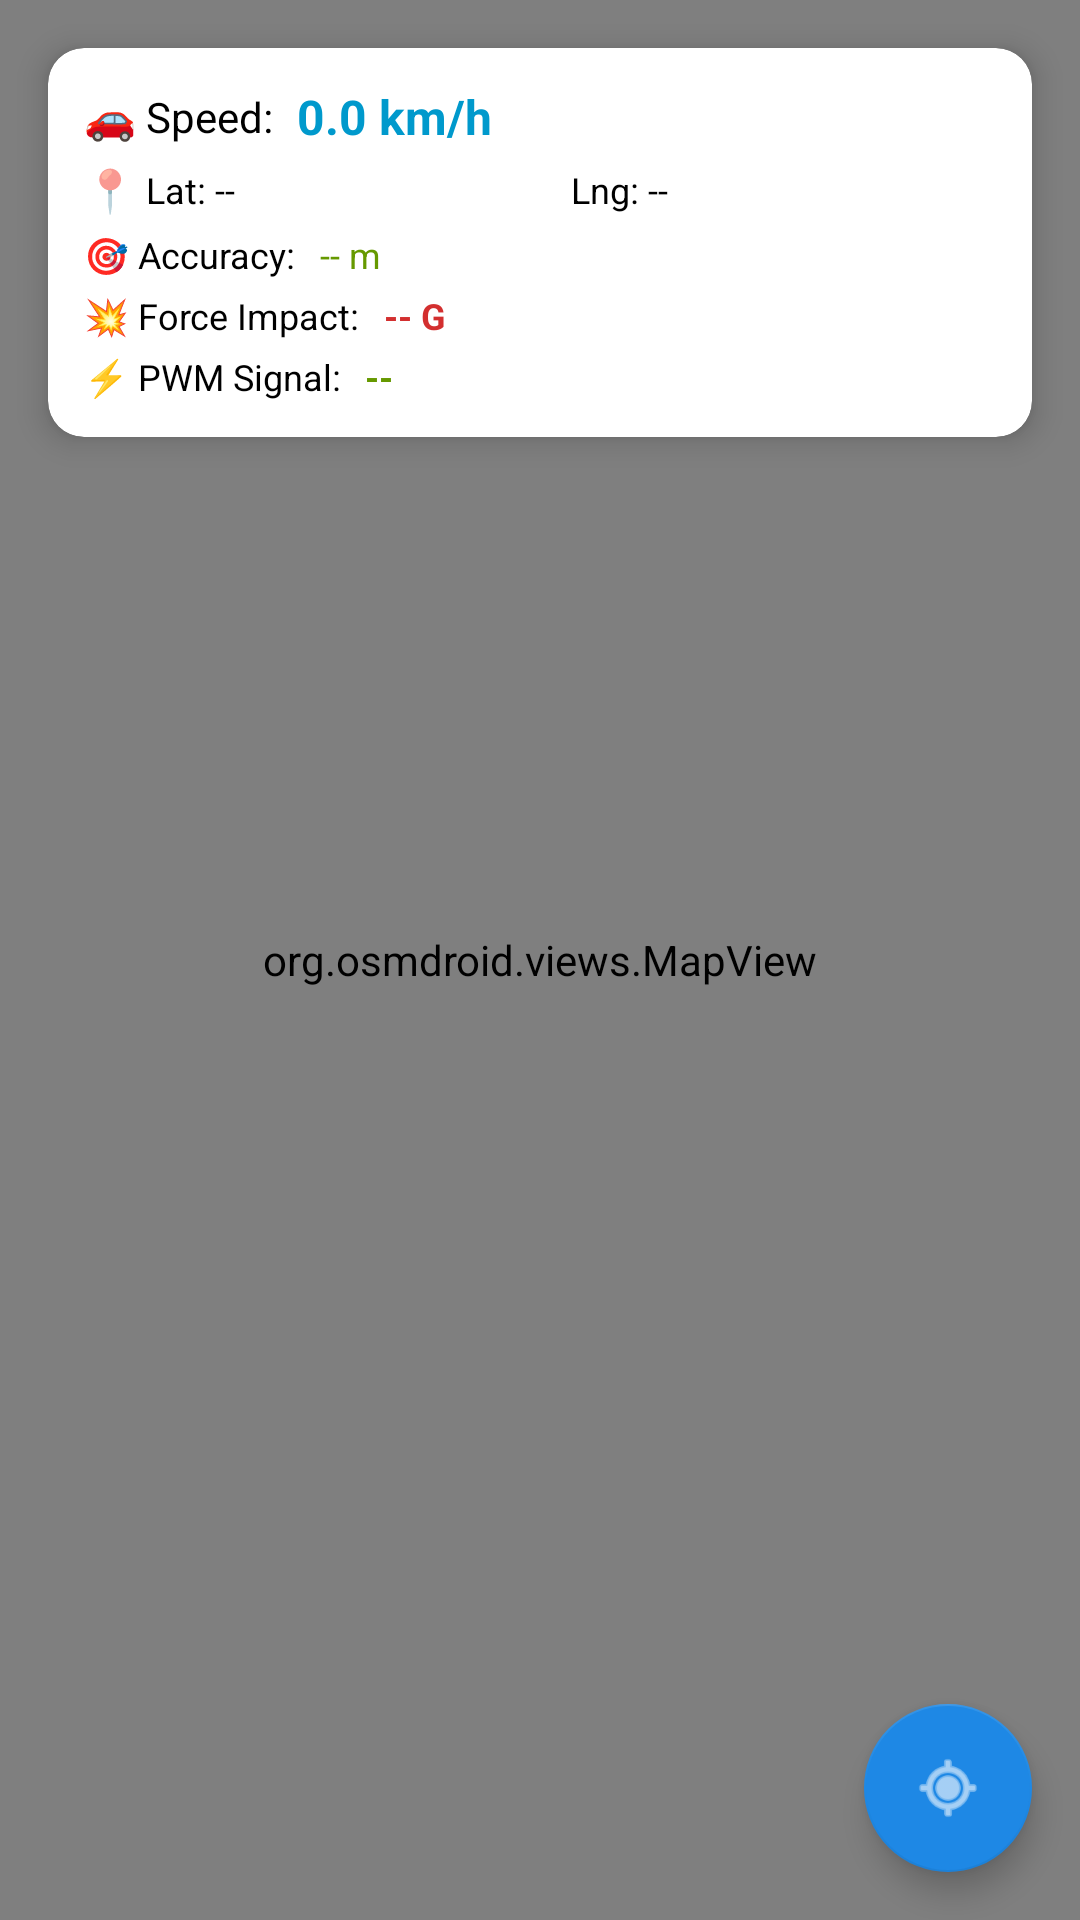

Icon bounding boxes for this 1080 × 1920 phone screenshot, format {"left": x1, "top": y1, "right": x2, "bottom": y2}:
Center on current location: {"left": 864, "top": 1704, "right": 1032, "bottom": 1872}
